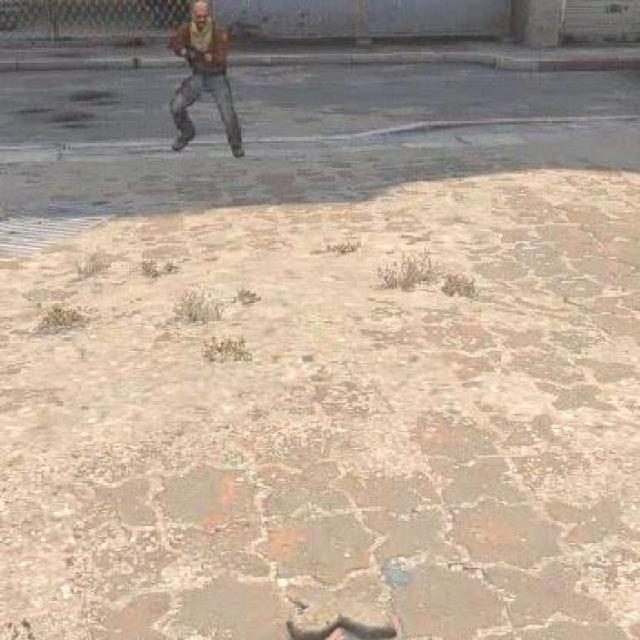T: (158, 0, 250, 158)
T_HEAD: (190, 0, 216, 26)
